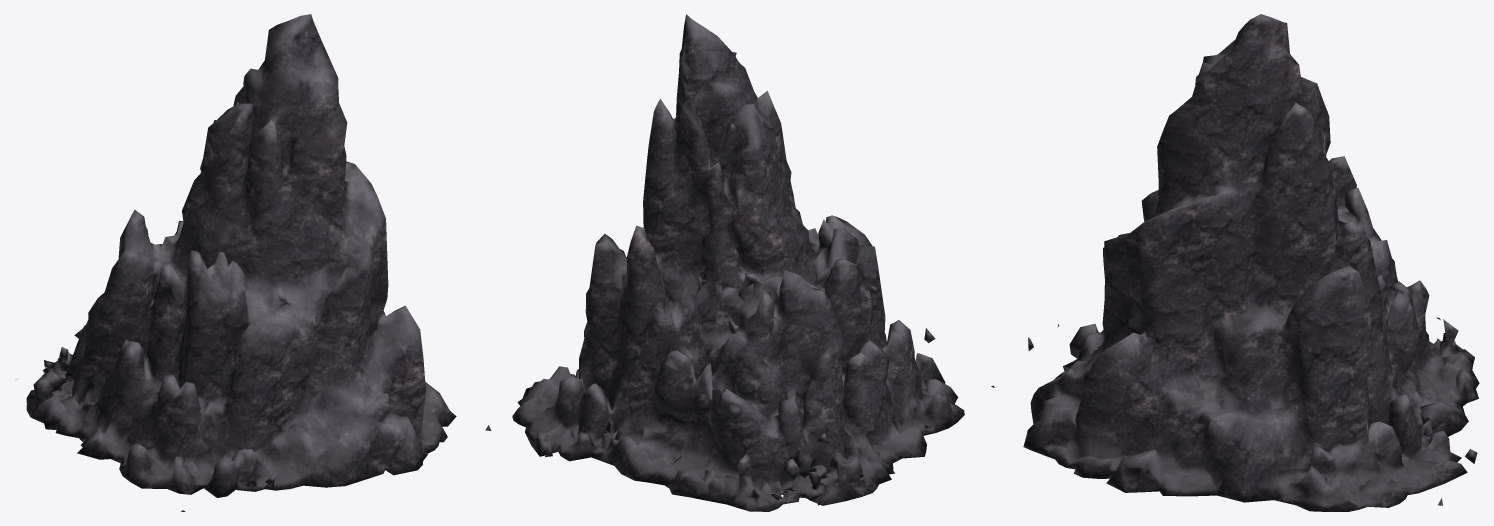
File: Prop_RockSpire.fbx
The picture shows the model from 3 angles, left to right: view 1: azimuth 30°, elevation 25°; view 2: azimuth 150°, elevation 25°; view 3: azimuth 270°, elevation 25°; orthographic projection. The views are drawn at different scales.
Visible parts, largest first — view 1: Prop_RockSpire; view 2: Prop_RockSpire; view 3: Prop_RockSpire.
Boxes of the visible parts, bbox=[...] form: Prop_RockSpire: bbox=[15, 14, 456, 511]; Prop_RockSpire: bbox=[485, 14, 994, 511]; Prop_RockSpire: bbox=[1023, 14, 1479, 511].
Size of the model in its own units: 7.43 by 7.51 by 7.21.
